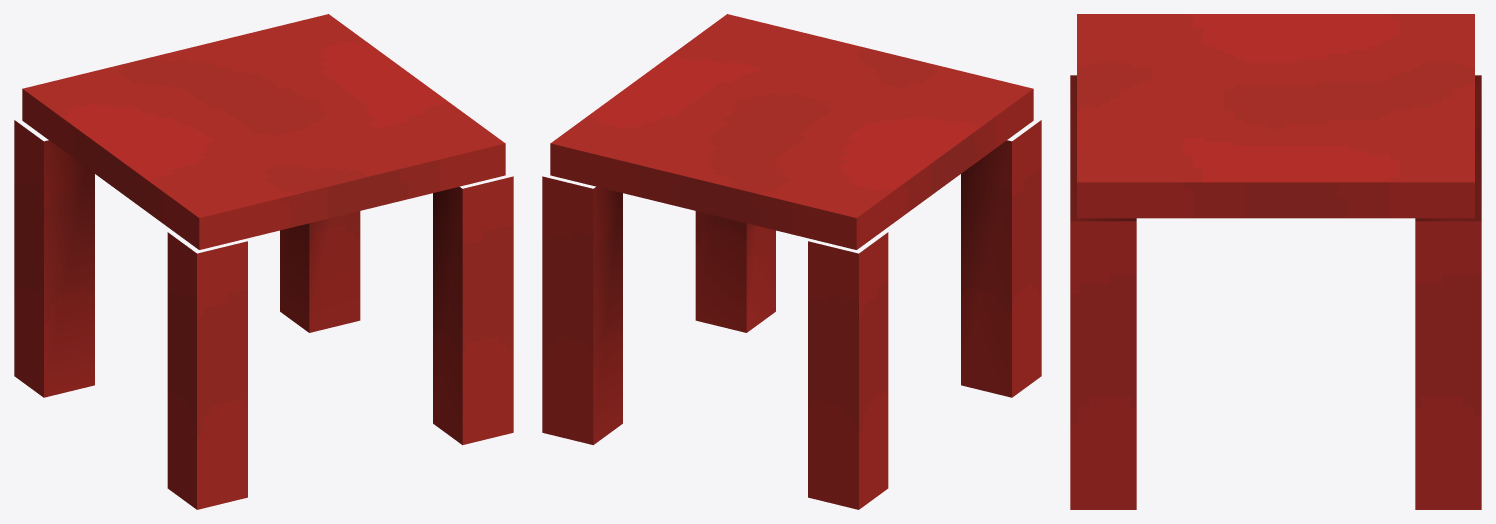
File: plastic_stool.glb
3 views of the same model, side by side, from view 1: azimuth 30°, elevation 25°; view 2: azimuth 150°, elevation 25°; view 3: azimuth 270°, elevation 25° (orthographic). The views are drawn at different scales.
Visible parts, largest first — view 1: plastic_stool_plastic_red; view 2: plastic_stool_plastic_red; view 3: plastic_stool_plastic_red.
Boxes of the visible parts, x1=… form: plastic_stool_plastic_red: x1=14, y1=14, x2=513, y2=509; plastic_stool_plastic_red: x1=542, y1=14, x2=1041, y2=509; plastic_stool_plastic_red: x1=1070, y1=14, x2=1481, y2=509.
Bounding box in the file's own units: 0.31 × 0.27 × 0.31.
Materials: 1 (1 with a texture image).
